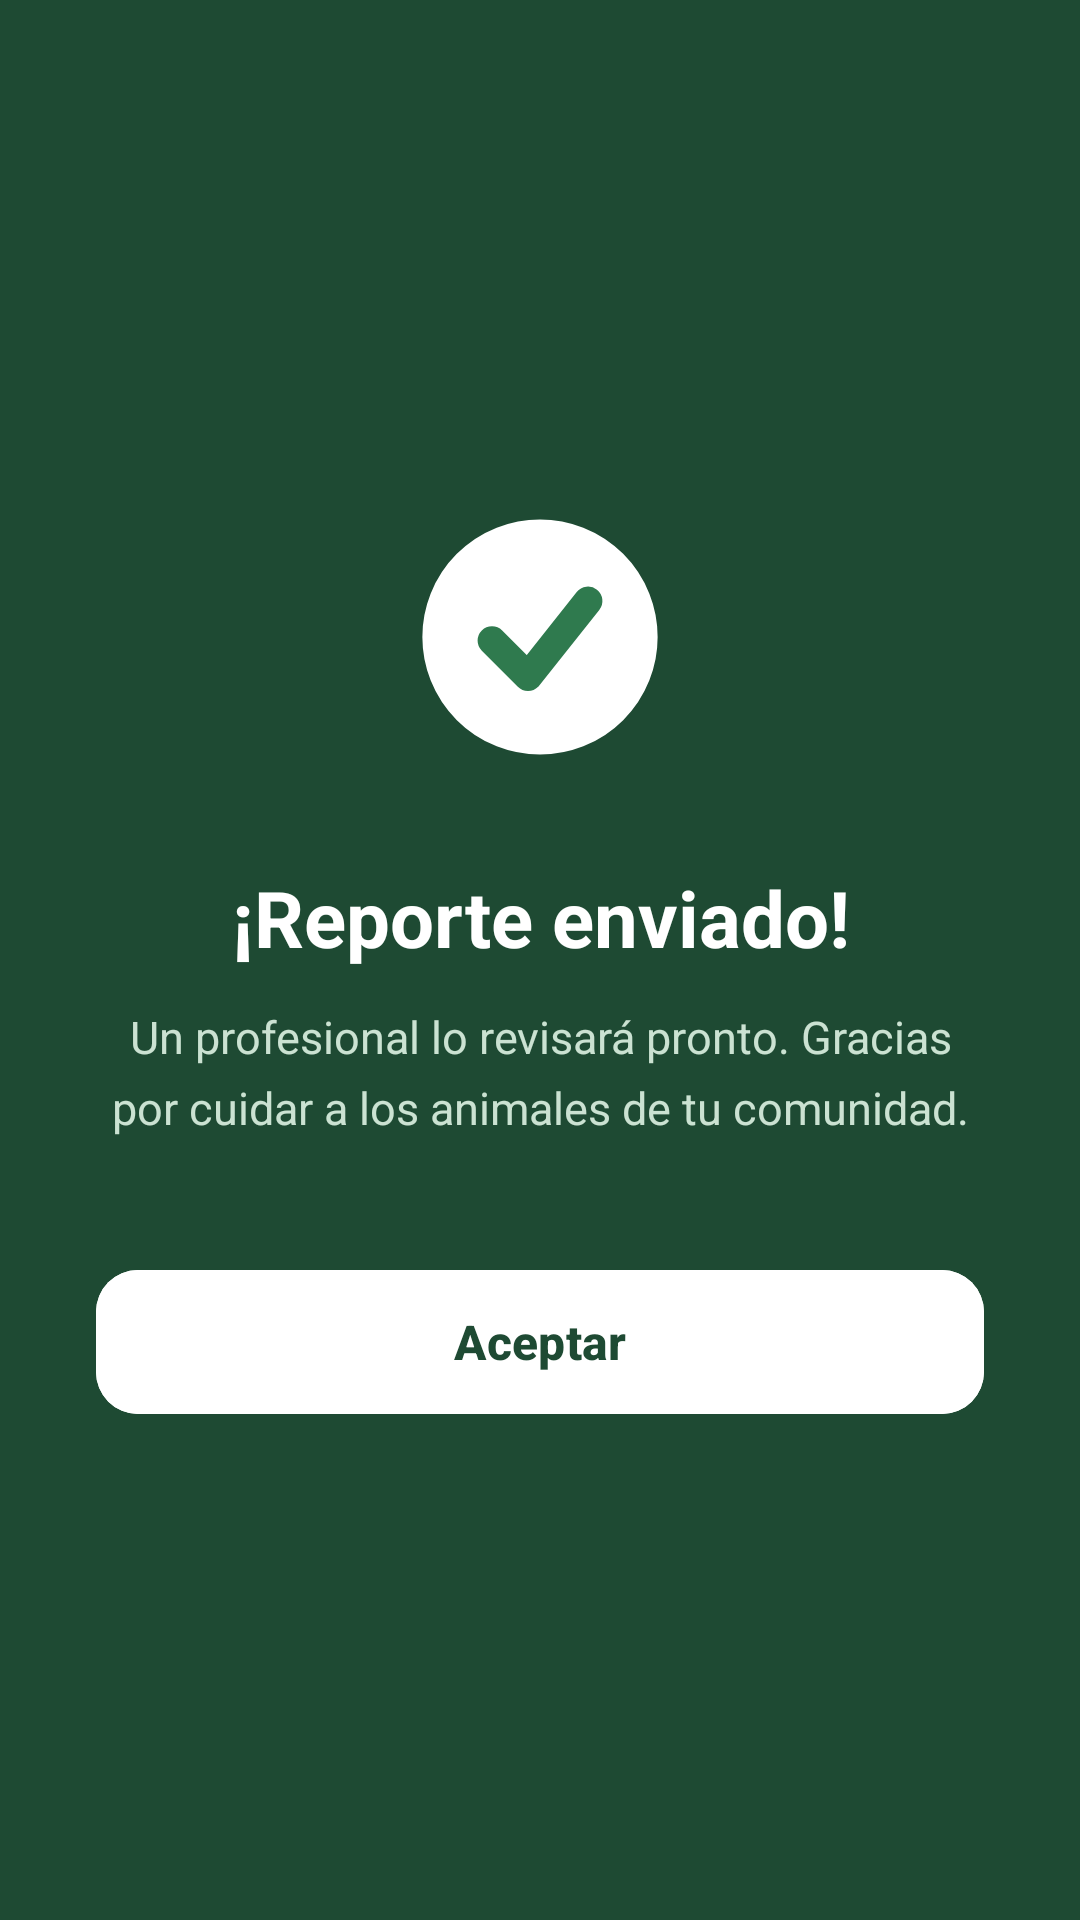

Icon bounding boxes for this 1080 x 1920 phone screenshot, format (x1=x1, y1=y1, x2=x2, y2=y2):
check circle: (x1=422, y1=519, x2=658, y2=755)
